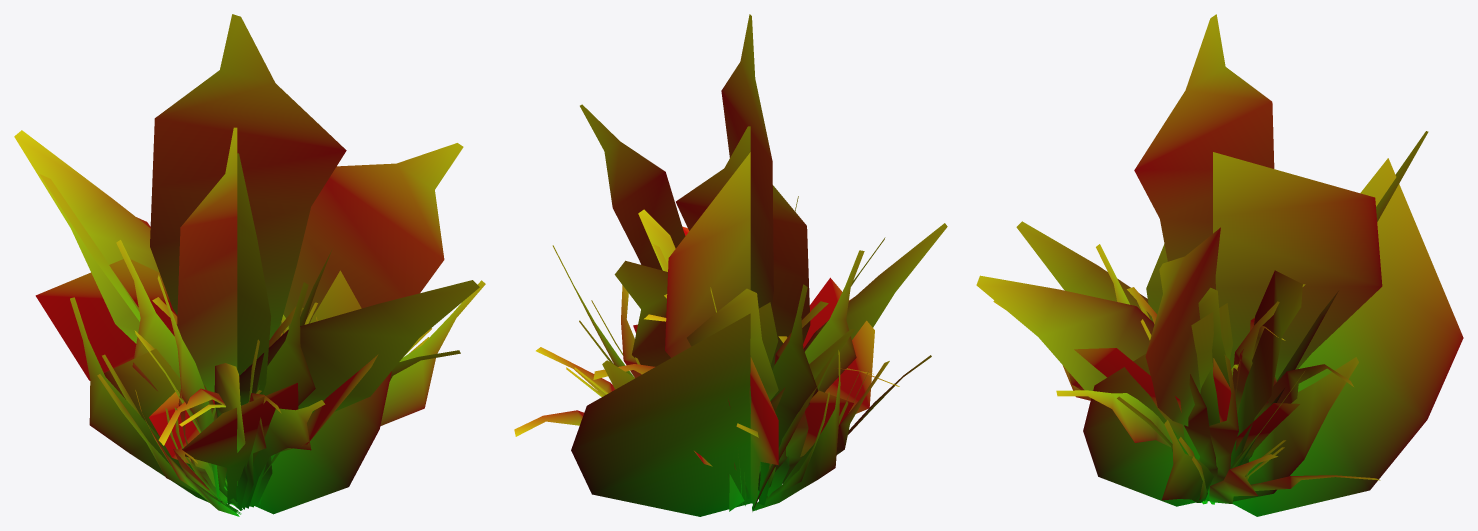
The model's file is tmjhcayia_Var2_LOD0.fbx.
3 views of the same model, side by side, from view 1: azimuth 30°, elevation 25°; view 2: azimuth 150°, elevation 25°; view 3: azimuth 270°, elevation 25° (orthographic).
Visible parts, largest first — view 1: Var2_LOD0; view 2: Var2_LOD0; view 3: Var2_LOD0.
Boxes of the visible parts, x1,y1,x2,y2 form: Var2_LOD0: (14, 14, 485, 516); Var2_LOD0: (514, 14, 947, 516); Var2_LOD0: (976, 14, 1463, 516).
Size of the model in its own units: 17.96 by 24.29 by 21.85.
